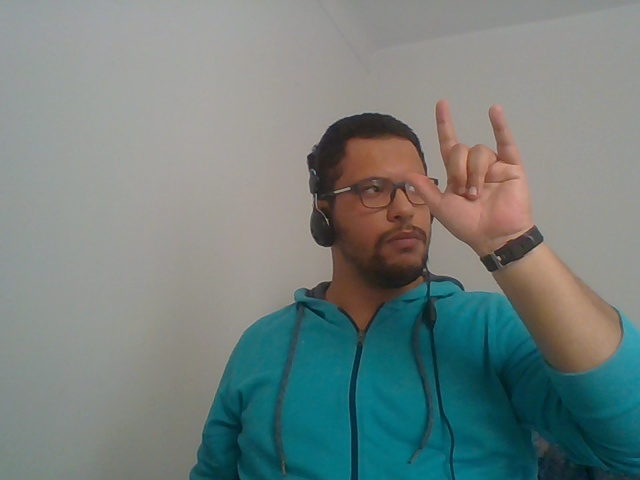iloveyou: (402, 84, 573, 304)
